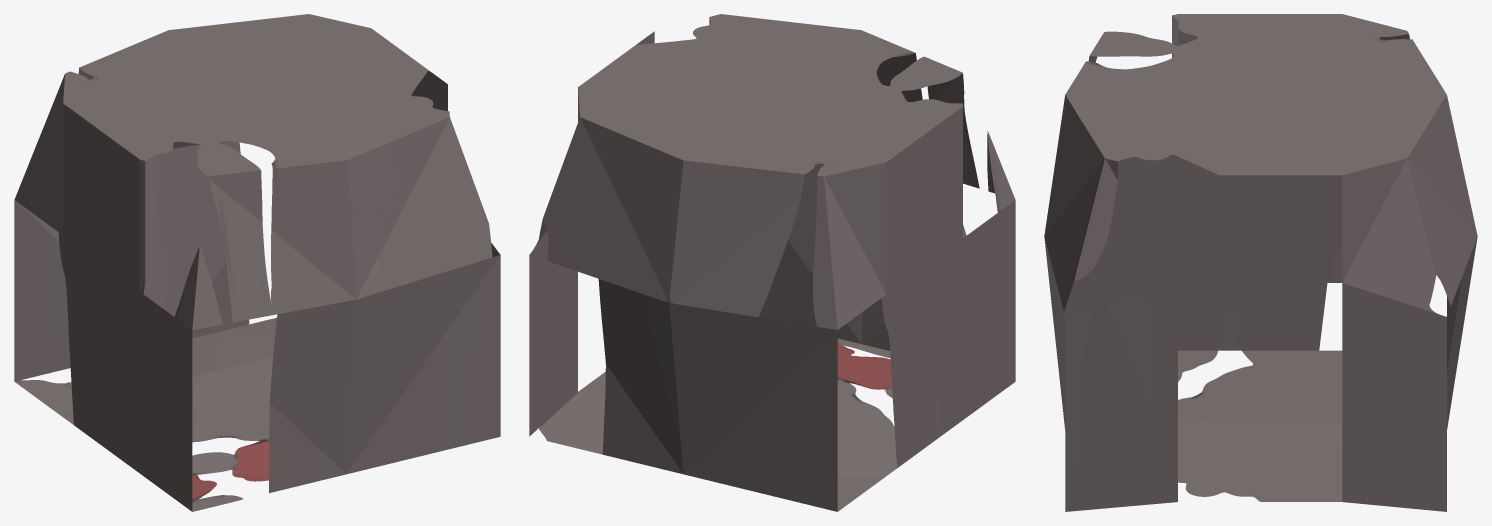
The model's file is EHub.obj.
3 views of the same model, side by side, from view 1: azimuth 30°, elevation 25°; view 2: azimuth 150°, elevation 25°; view 3: azimuth 270°, elevation 25° (orthographic). The views are drawn at different scales.
Parts seen in each view (by area): view 1: 立方体; view 2: 立方体; view 3: 立方体.
Part boxes in pixels (box(x1,y1,x2,y2)): 立方体: box(14, 14, 500, 511); 立方体: box(529, 14, 1015, 511); 立方体: box(1044, 14, 1477, 511).
Size of the model in its own units: 4 by 3.89 by 4.54.
Materials: 1 (1 with a texture image).
